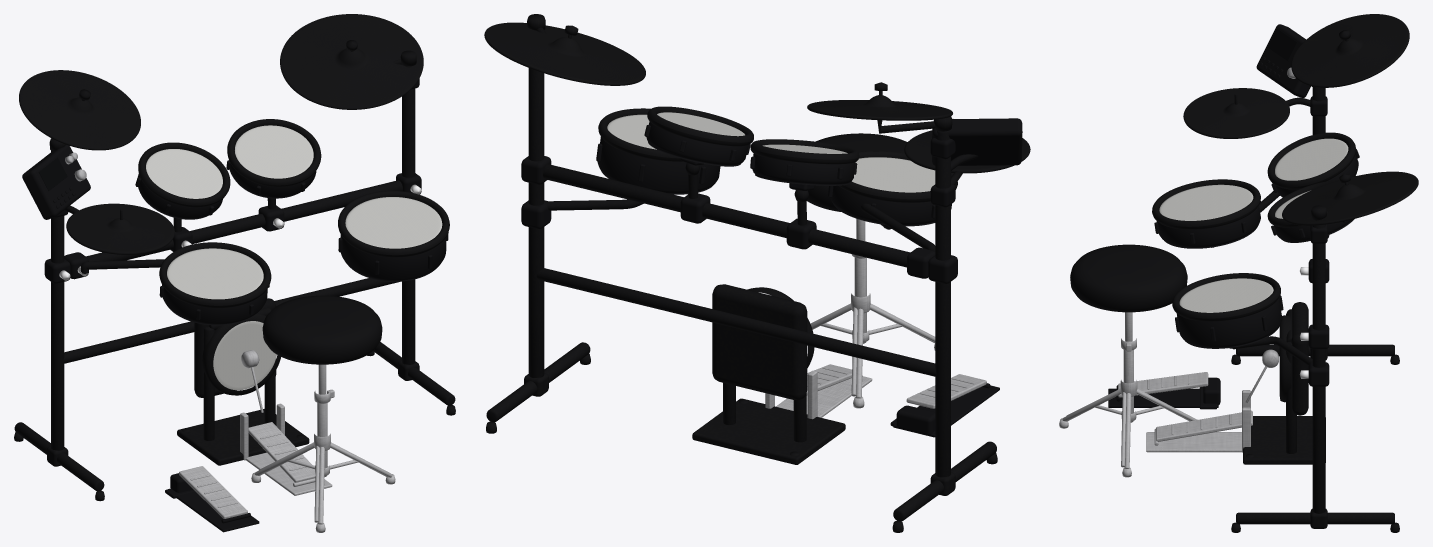
File: ElectronicKit.glb
3 views of the same model, side by side, from view 1: azimuth 30°, elevation 25°; view 2: azimuth 150°, elevation 25°; view 3: azimuth 270°, elevation 25° (orthographic). The views are drawn at different scales.
Parts seen in each view (by area): view 1: Ride_Cymbal, Crash_Cymbal, Throne_Seat, Rack_Crossbar, Kick, HiHat_Cymbal, Kick_Pad, FloorTom_Head, Snare_Head, TomMid_Head, Rack_LeftPost, TomHigh_Head (+21 smaller); view 2: Kick, Rack_Crossbar, Ride_Cymbal, Rack_LeftPost, Rack_RightPost, FloorTom_Body, DrumModule_Body, Crash_Cymbal, TomHigh_Body, Snare_Head, TomMid_Body, Snare_Body (+24 smaller); view 3: Throne_Seat, Crash_Cymbal, Kick, Ride_Cymbal, HiHat_Cymbal, Rack_RightPost, FloorTom_Body, Snare_Head, FloorTom_Head, Rack_Leg_Right, Kick_PedalBase, TomHigh_Head (+21 smaller).
Part boxes in pixels (left/top/right/bottom): Ride_Cymbal: left=280, top=14, right=423, bottom=109; Crash_Cymbal: left=19, top=70, right=140, bottom=150; Throne_Seat: left=262, top=295, right=382, bottom=364; Rack_Crossbar: left=63, top=180, right=402, bottom=363; Kick: left=177, top=298, right=309, bottom=465; HiHat_Cymbal: left=66, top=203, right=174, bottom=254; Kick_Pad: left=202, top=313, right=280, bottom=395; FloorTom_Head: left=345, top=197, right=442, bottom=248; Snare_Head: left=167, top=248, right=263, bottom=299; TomMid_Head: left=235, top=125, right=313, bottom=178; Rack_LeftPost: left=49, top=138, right=65, bottom=450; TomHigh_Head: left=146, top=149, right=222, bottom=198; Kick: left=692, top=284, right=845, bottom=464; Rack_Crossbar: left=536, top=164, right=936, bottom=376; Ride_Cymbal: left=484, top=22, right=645, bottom=85; Rack_LeftPost: left=933, top=116, right=952, bottom=477; Rack_RightPost: left=527, top=14, right=545, bottom=377; FloorTom_Body: left=596, top=137, right=720, bottom=194; DrumModule_Body: left=932, top=118, right=1022, bottom=165; Crash_Cymbal: left=807, top=95, right=952, bottom=120; TomHigh_Body: left=750, top=153, right=857, bottom=190; Snare_Head: left=852, top=157, right=935, bottom=192; TomMid_Body: left=644, top=121, right=750, bottom=166; Snare_Body: left=828, top=185, right=951, bottom=226; Throne_Seat: left=1070, top=244, right=1187, bottom=312; Crash_Cymbal: left=1291, top=14, right=1409, bottom=87; Kick: left=1243, top=302, right=1325, bottom=464; Ride_Cymbal: left=1282, top=171, right=1418, bottom=225; HiHat_Cymbal: left=1183, top=88, right=1289, bottom=138; Rack_RightPost: left=1311, top=205, right=1326, bottom=513; FloorTom_Body: left=1175, top=295, right=1283, bottom=348; Snare_Head: left=1159, top=184, right=1253, bottom=220; FloorTom_Head: left=1179, top=278, right=1273, bottom=312; Rack_Leg_Right: left=1231, top=508, right=1399, bottom=532; Kick_PedalBase: left=1146, top=390, right=1250, bottom=452; TomHigh_Head: left=1275, top=138, right=1348, bottom=180.
Bounding box in the file's own units: 1.39 × 1.12 × 1.04.
Materials: 9 (9 with a texture image).
